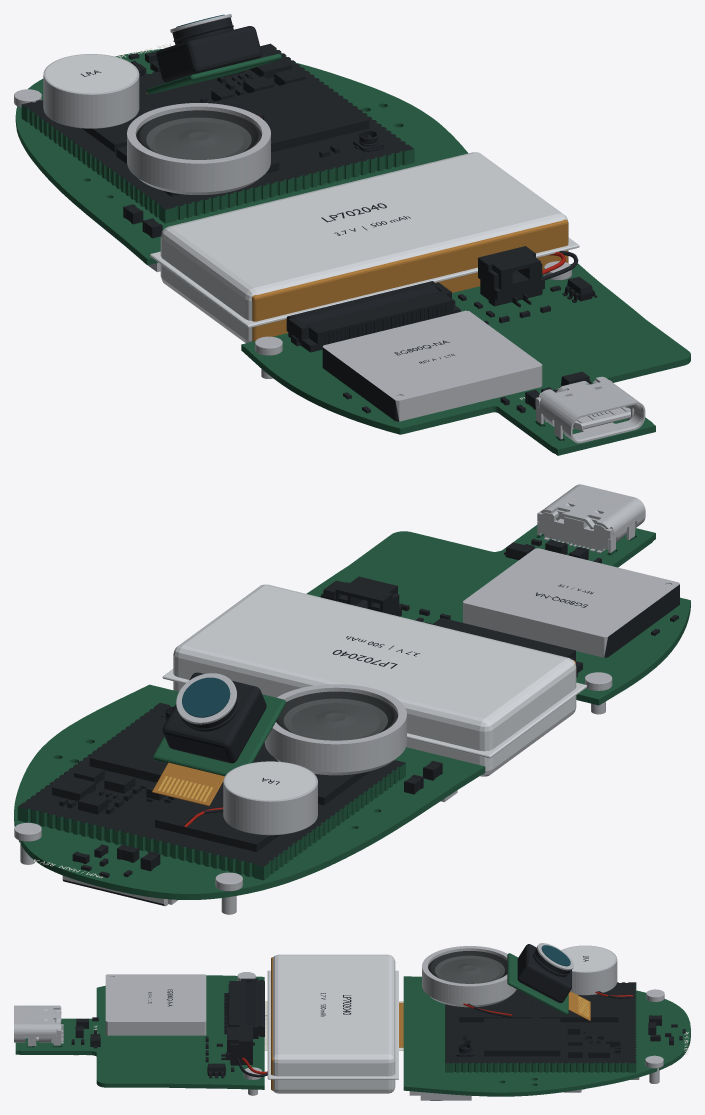
Rendered from pneuma-q-detail.glb.
The picture shows the model from 3 angles, top to bottom: view 1: azimuth 30°, elevation 25°; view 2: azimuth 150°, elevation 25°; view 3: azimuth 270°, elevation 25°; orthographic projection. The views are drawn at different scales.
Parts seen in each view (by area): view 1: pneuma-pwr, pneuma-main, Rounded foil pouch, Battery PCM tape, Stamped speaker basket, Haptic motor can, Speaker diaphragm and dome, Camera sensor housing, Haptic motor seam, Cell heat-seal flange, Elastomer speaker surround, Camera PCB — representative (+1 smaller); view 2: pneuma-main, pneuma-pwr, Rounded foil pouch, Stamped speaker basket, Camera sensor housing, Haptic motor can, Speaker diaphragm and dome, Haptic motor seam, Camera PCB — representative, Camera flex tail, Coated lens, Cell heat-seal flange (+2 smaller); view 3: pneuma-main, pneuma-pwr, Rounded foil pouch, Stamped speaker basket, Speaker diaphragm and dome, Camera sensor housing, Cell heat-seal flange, Haptic motor can, Haptic motor seam, Camera PCB — representative, Elastomer speaker surround, Camera flex tail (+4 smaller).
Boxes of the visible parts, bbox=[...] form: pneuma-pwr: bbox=[241, 246, 690, 455]; pneuma-main: bbox=[15, 43, 467, 272]; Rounded foil pouch: bbox=[160, 152, 568, 343]; Battery PCM tape: bbox=[252, 219, 568, 341]; Stamped speaker basket: bbox=[127, 103, 270, 194]; Haptic motor can: bbox=[43, 54, 139, 128]; Speaker diaphragm and dome: bbox=[146, 117, 251, 159]; Camera sensor housing: bbox=[156, 26, 261, 82]; Haptic motor seam: bbox=[45, 54, 137, 93]; Cell heat-seal flange: bbox=[150, 237, 579, 327]; Elastomer speaker surround: bbox=[136, 110, 261, 152]; Camera PCB — representative: bbox=[146, 54, 281, 94]; pneuma-main: bbox=[14, 684, 485, 906]; pneuma-pwr: bbox=[306, 484, 690, 705]; Rounded foil pouch: bbox=[173, 584, 576, 776]; Stamped speaker basket: bbox=[264, 684, 406, 775]; Camera sensor housing: bbox=[162, 672, 266, 763]; Haptic motor can: bbox=[223, 761, 317, 835]; Speaker diaphragm and dome: bbox=[283, 698, 387, 740]; Haptic motor seam: bbox=[225, 762, 315, 800]; Camera PCB — representative: bbox=[153, 694, 286, 776]; Camera flex tail: bbox=[152, 762, 224, 806]; Coated lens: bbox=[182, 677, 230, 717]; Cell heat-seal flange: bbox=[162, 669, 586, 758]; pneuma-main: bbox=[403, 976, 690, 1100]; pneuma-pwr: bbox=[14, 974, 264, 1089]; Rounded foil pouch: bbox=[273, 954, 395, 1093]; Stamped speaker basket: bbox=[422, 946, 516, 1007]; Speaker diaphragm and dome: bbox=[434, 955, 504, 983]; Camera sensor housing: bbox=[517, 944, 571, 1003]; Cell heat-seal flange: bbox=[267, 970, 398, 1079]; Haptic motor can: bbox=[561, 945, 617, 995]; Haptic motor seam: bbox=[562, 946, 615, 971]; Camera PCB — representative: bbox=[507, 953, 568, 1014]; Elastomer speaker surround: bbox=[428, 951, 507, 978]; Camera flex tail: bbox=[568, 991, 590, 1020].
Bounding box in the file's own units: 0.045 × 0.0182 × 0.1061.
